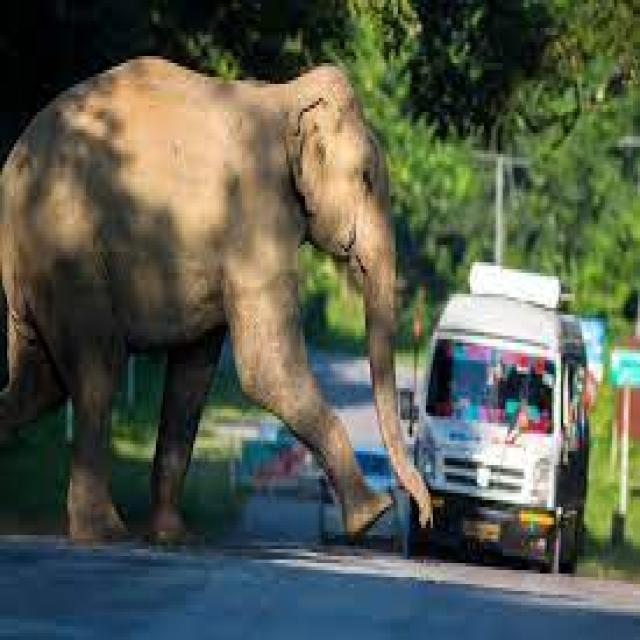Elephant: (0, 35, 442, 549)
